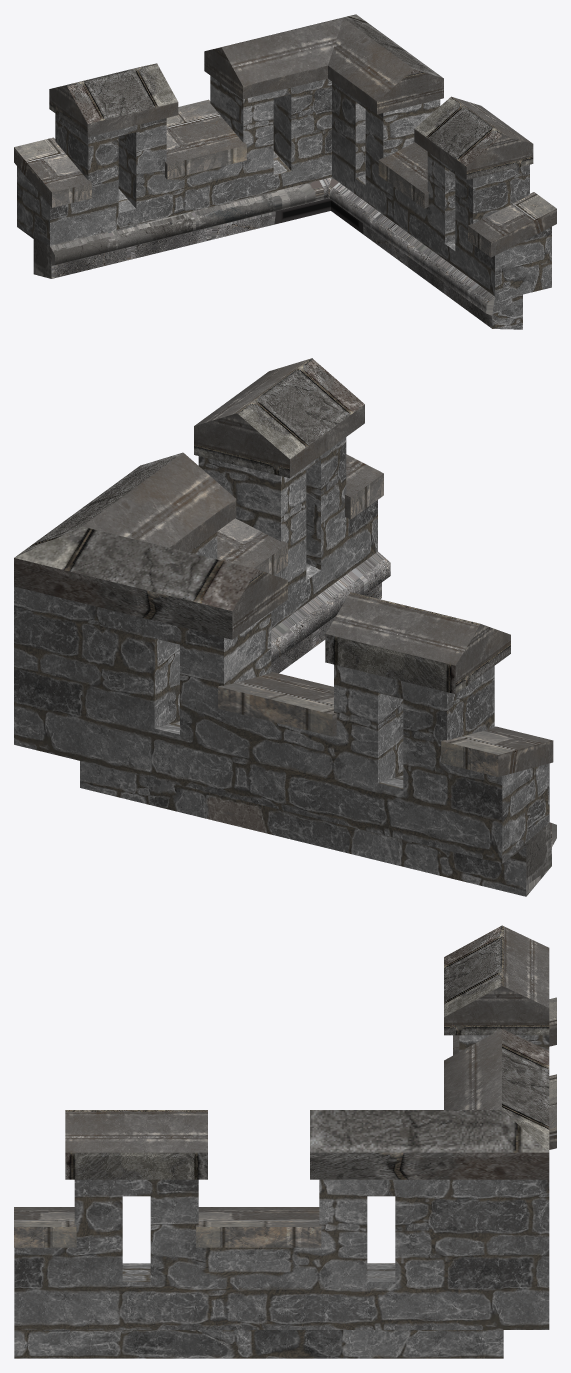
File: MC_Battlements_Wall_A_In.fbx
The picture shows the model from 3 angles, top to bottom: view 1: azimuth 30°, elevation 25°; view 2: azimuth 150°, elevation 25°; view 3: azimuth 270°, elevation 25°; orthographic projection. The views are drawn at different scales.
Visible parts, largest first — view 1: MC_Battlements_Wall_A_In_LOD0; view 2: MC_Battlements_Wall_A_In_LOD0; view 3: MC_Battlements_Wall_A_In_LOD0.
Boxes of the visible parts, <box> form: MC_Battlements_Wall_A_In_LOD0: <box>14,14,556,329</box>; MC_Battlements_Wall_A_In_LOD0: <box>14,358,556,896</box>; MC_Battlements_Wall_A_In_LOD0: <box>14,925,556,1358</box>.
Size of what is drawn, in the model's own units: 444 by 224 by 444.
